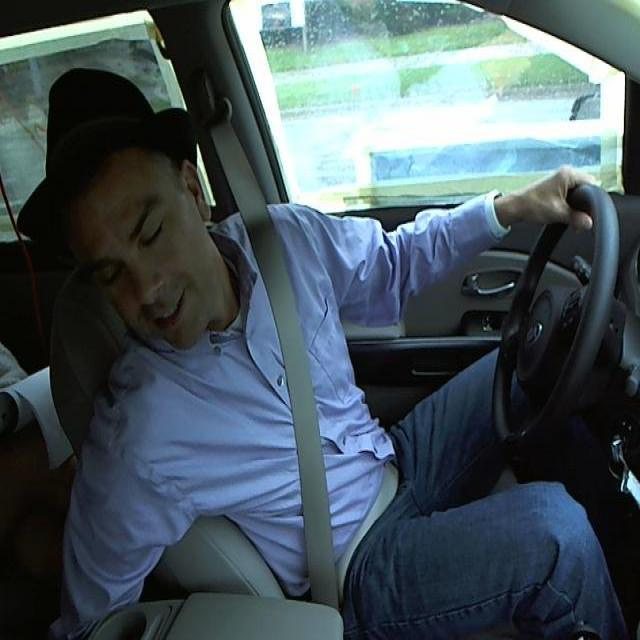seatbelt: (256, 236, 386, 587)
